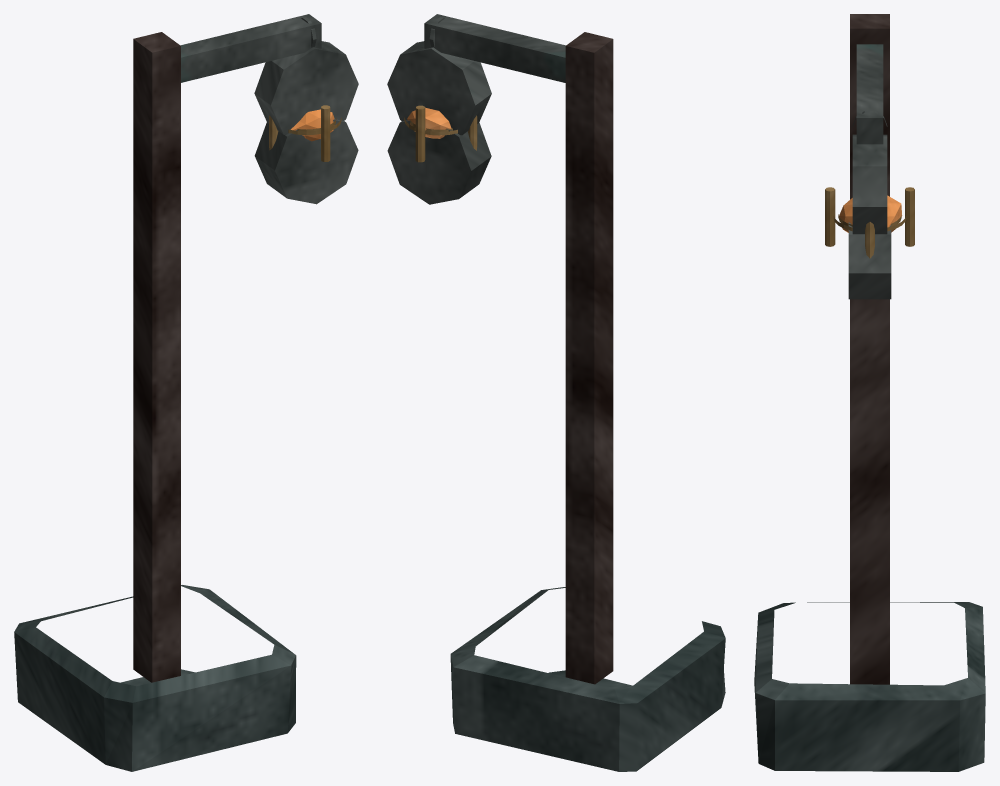
File: 0720_lantern_post_20.glb
3 views of the same model, side by side, from view 1: azimuth 30°, elevation 25°; view 2: azimuth 150°, elevation 25°; view 3: azimuth 270°, elevation 25° (orthographic). The views are drawn at different scales.
Visible parts, largest first — view 1: wood_dark, stone_dark, iron, brass; view 2: wood_dark, stone_dark, iron, brass, amber; view 3: stone_dark, wood_dark, iron, brass, amber.
Part boxes in pixels (<box>): wood_dark: <box>133,32,180,682</box>; stone_dark: <box>14,585,296,771</box>; iron: <box>180,14,358,204</box>; brass: <box>269,105,341,161</box>; wood_dark: <box>565,32,613,684</box>; stone_dark: <box>450,587,725,771</box>; iron: <box>387,14,565,204</box>; brass: <box>404,105,477,162</box>; amber: <box>407,107,451,138</box>; stone_dark: <box>754,602,985,771</box>; wood_dark: <box>850,14,889,684</box>; iron: <box>848,44,891,299</box>; brass: <box>825,187,914,258</box>; amber: <box>839,195,902,232</box>.
Bounding box in the file's own units: 1.31 × 2.94 × 0.8704.
5 materials, 5 textured.
